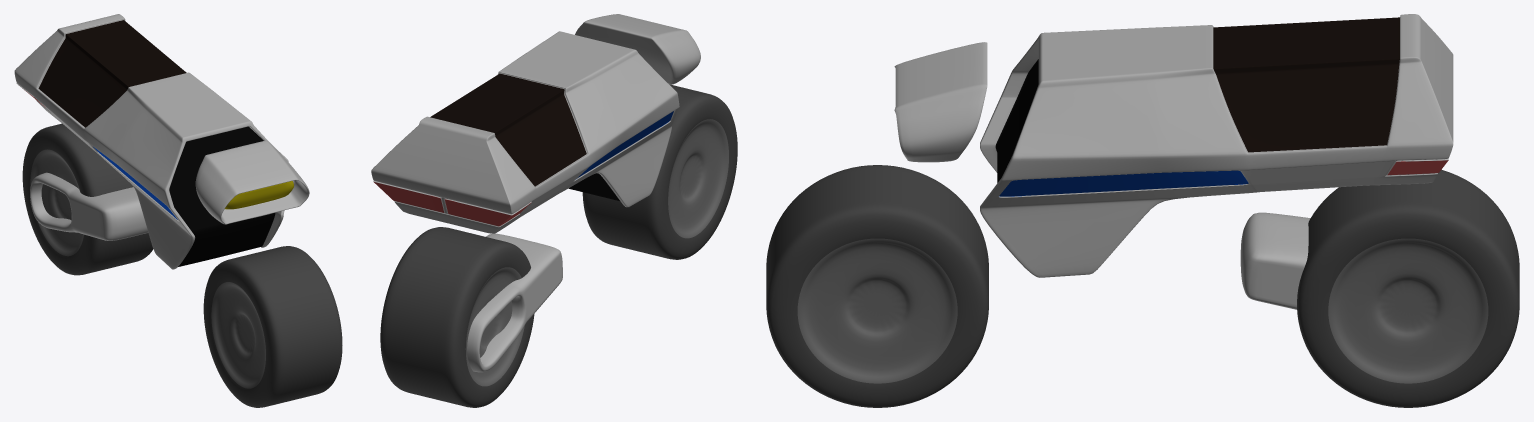
The model's file is Moto_Export4_combined.fbx.
The picture shows the model from 3 angles, left to right: view 1: azimuth 30°, elevation 25°; view 2: azimuth 150°, elevation 25°; view 3: azimuth 270°, elevation 25°; orthographic projection. The views are drawn at different scales.
Visible parts, largest first — view 1: pCylinder4; view 2: pCylinder4; view 3: pCylinder4.
Boxes of the visible parts, bbox=[...] form: pCylinder4: bbox=[14, 14, 342, 407]; pCylinder4: bbox=[371, 14, 737, 407]; pCylinder4: bbox=[766, 14, 1519, 407].
Bounding box in the file's own units: 1.43 × 2.58 × 5.01.
